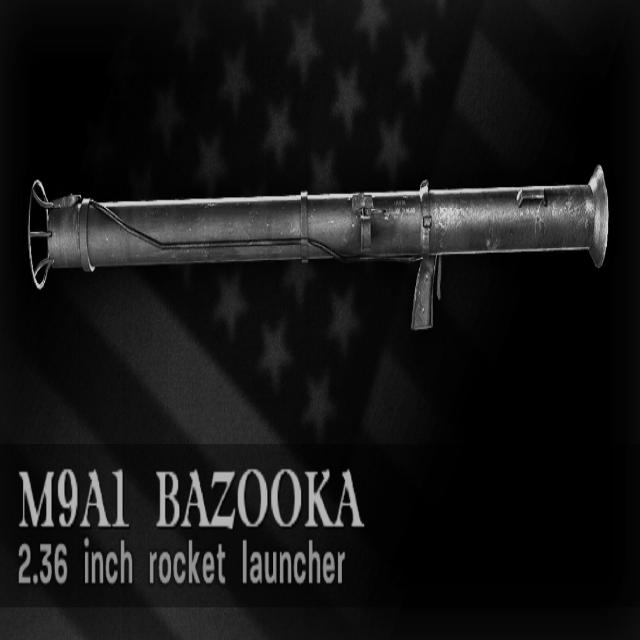Lancher: (18, 131, 624, 323)
